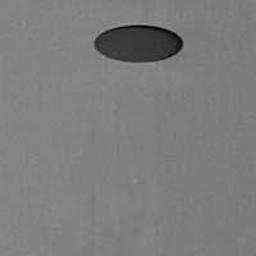Punching: (93, 24, 184, 64)
